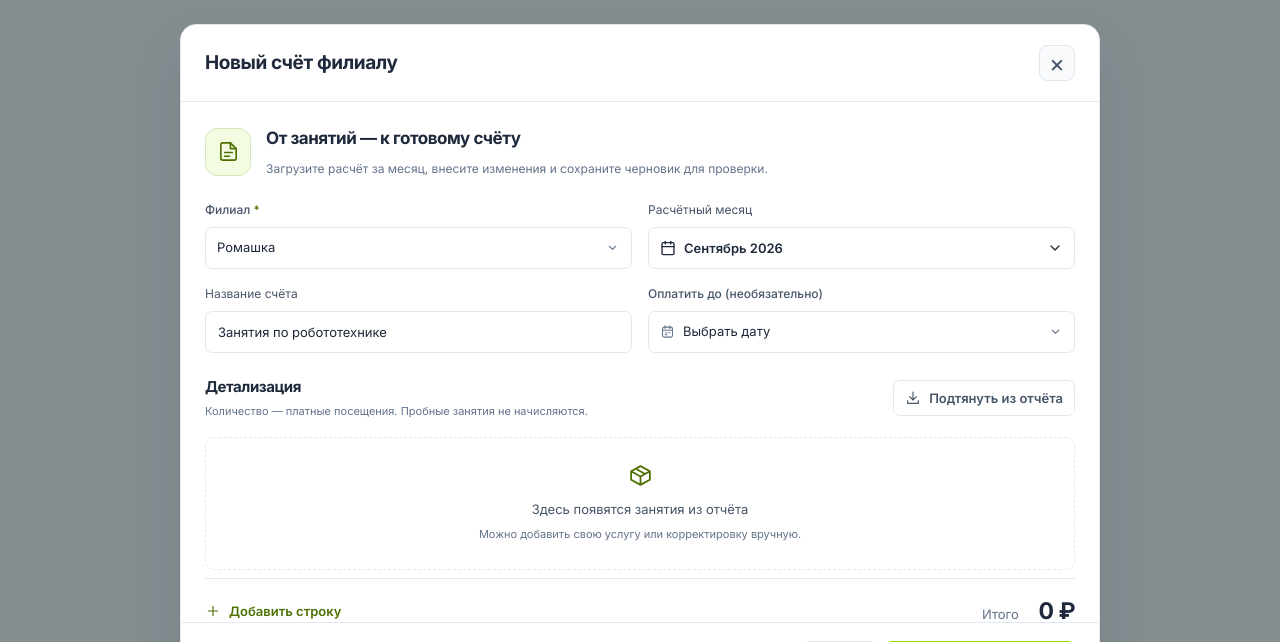
a delayed report cannot overwrite requisites entered while it was loading
Click the button "Подтянуть из отчёта": (984, 398) [893, 380, 1075, 416]
(page scrolled)
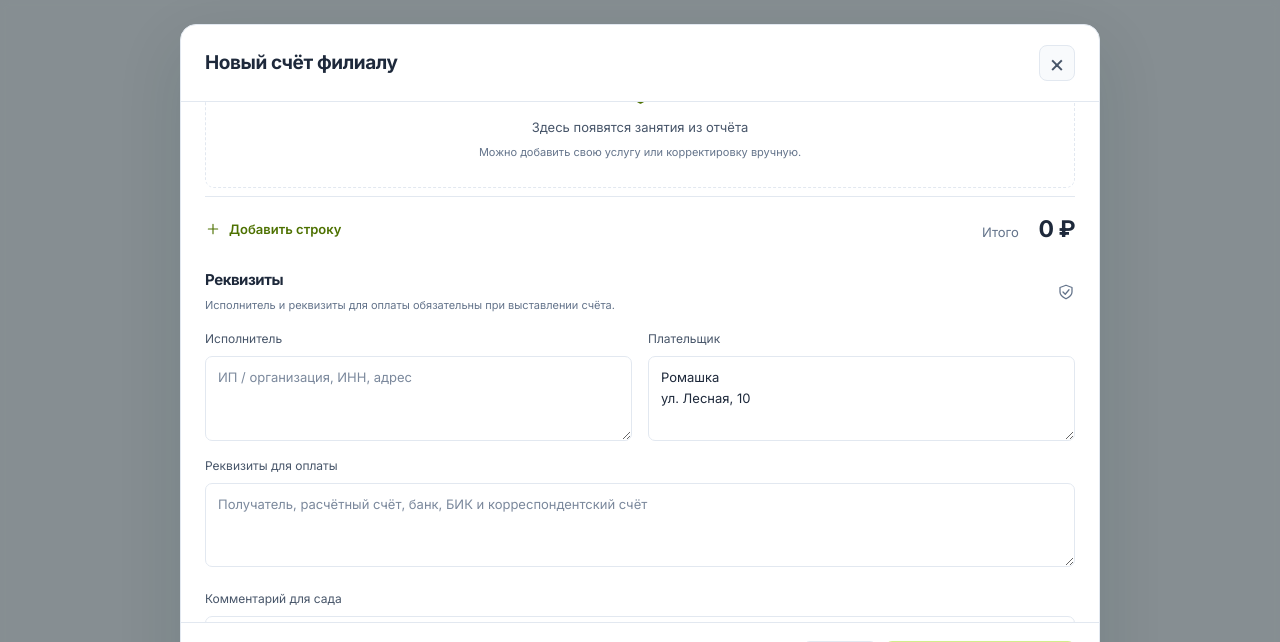
In the text box labelled "Исполнитель": (418, 399) [205, 356, 632, 441], type "Исполнитель из нового договора"
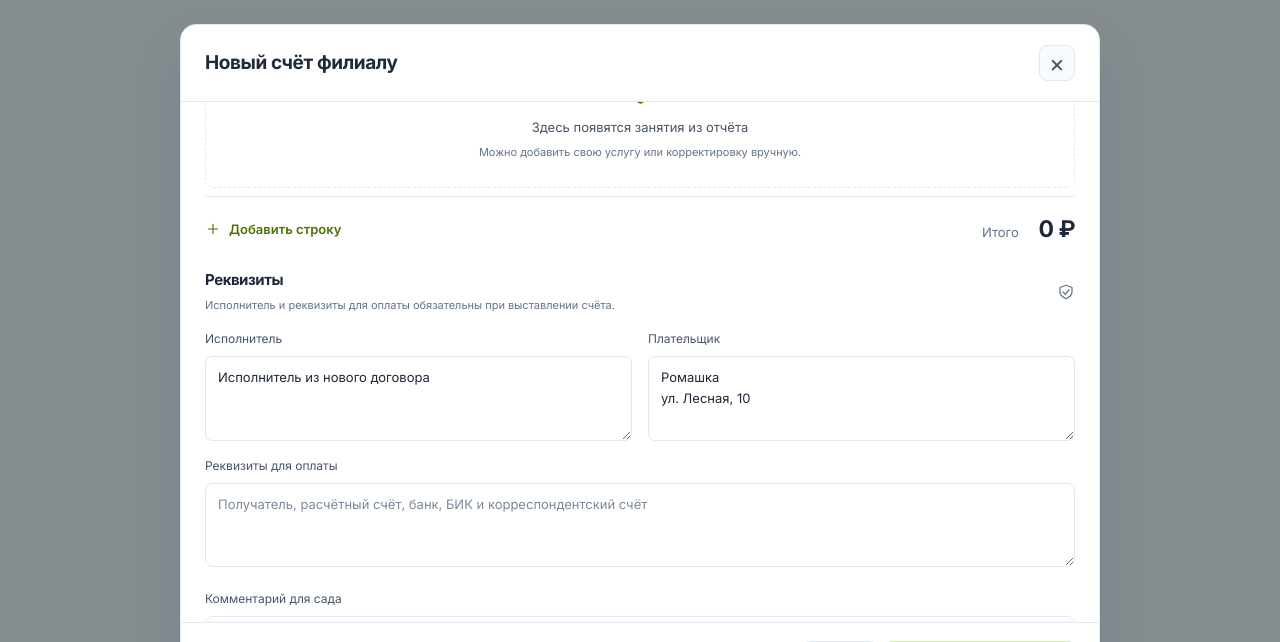
Replace the text in the text box labelled "Реквизиты для оплаты" with "Новый банковский счёт": (640, 525) [205, 483, 1075, 567]
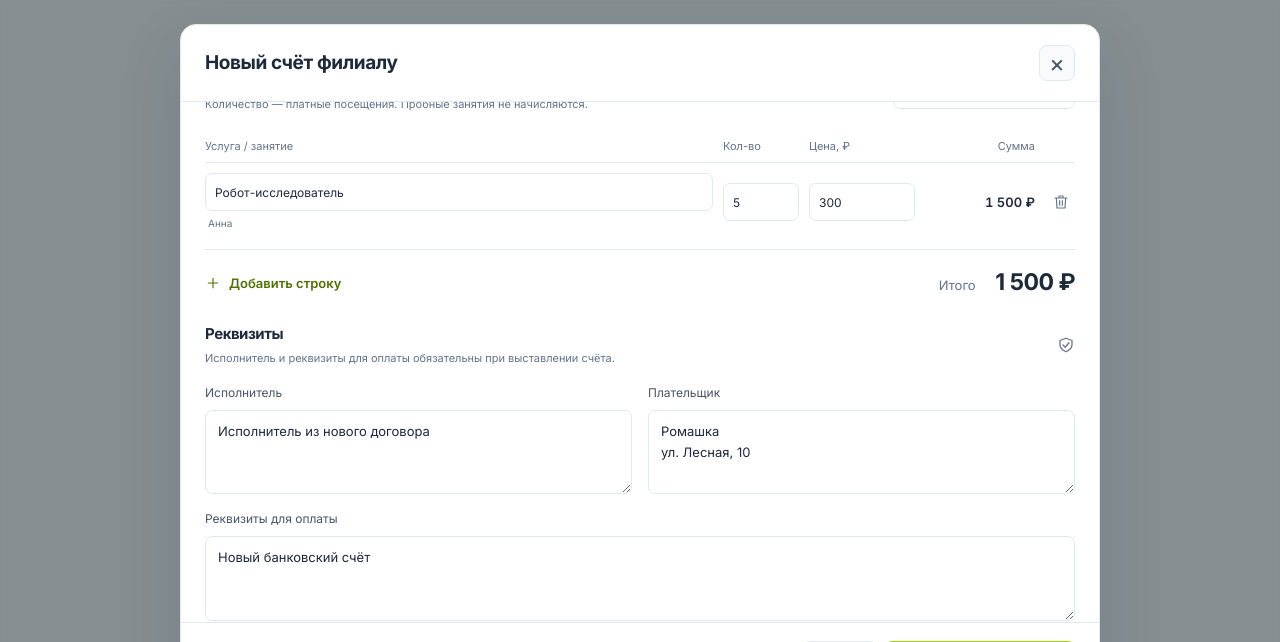
Result: the field named "Наименование строки 1" holds "Робот-исследователь" at [205, 173, 713, 211]
